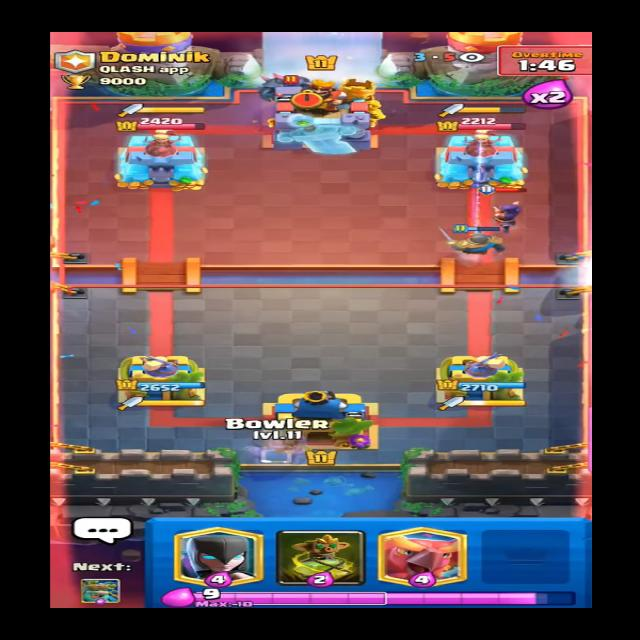evo-wizard: (475, 183, 536, 234)
pekka: (248, 67, 329, 110)
